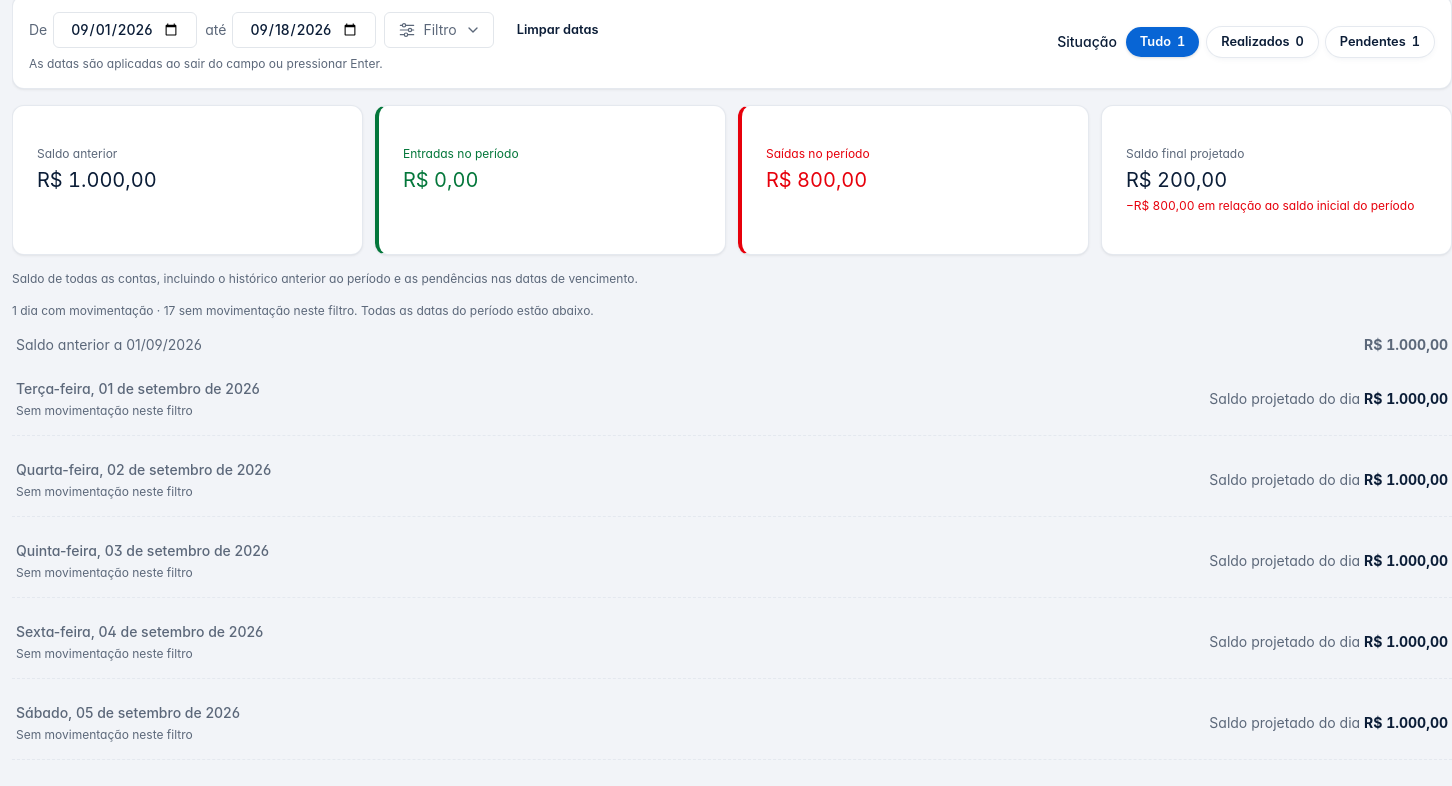
Test: abre do início do mês até hoje e exclui vencimentos futuros
The width and height of the screenshot is (1452, 786).
Expected: the date field labelled "De" holds "2026-09-01", [53, 12, 197, 48]
Expected: the date field labelled "até" holds "2026-09-18", [232, 12, 376, 48]
Click the button "Limpar datas": {"x": 558, "y": 30} [502, 12, 614, 48]
(page scrolled)
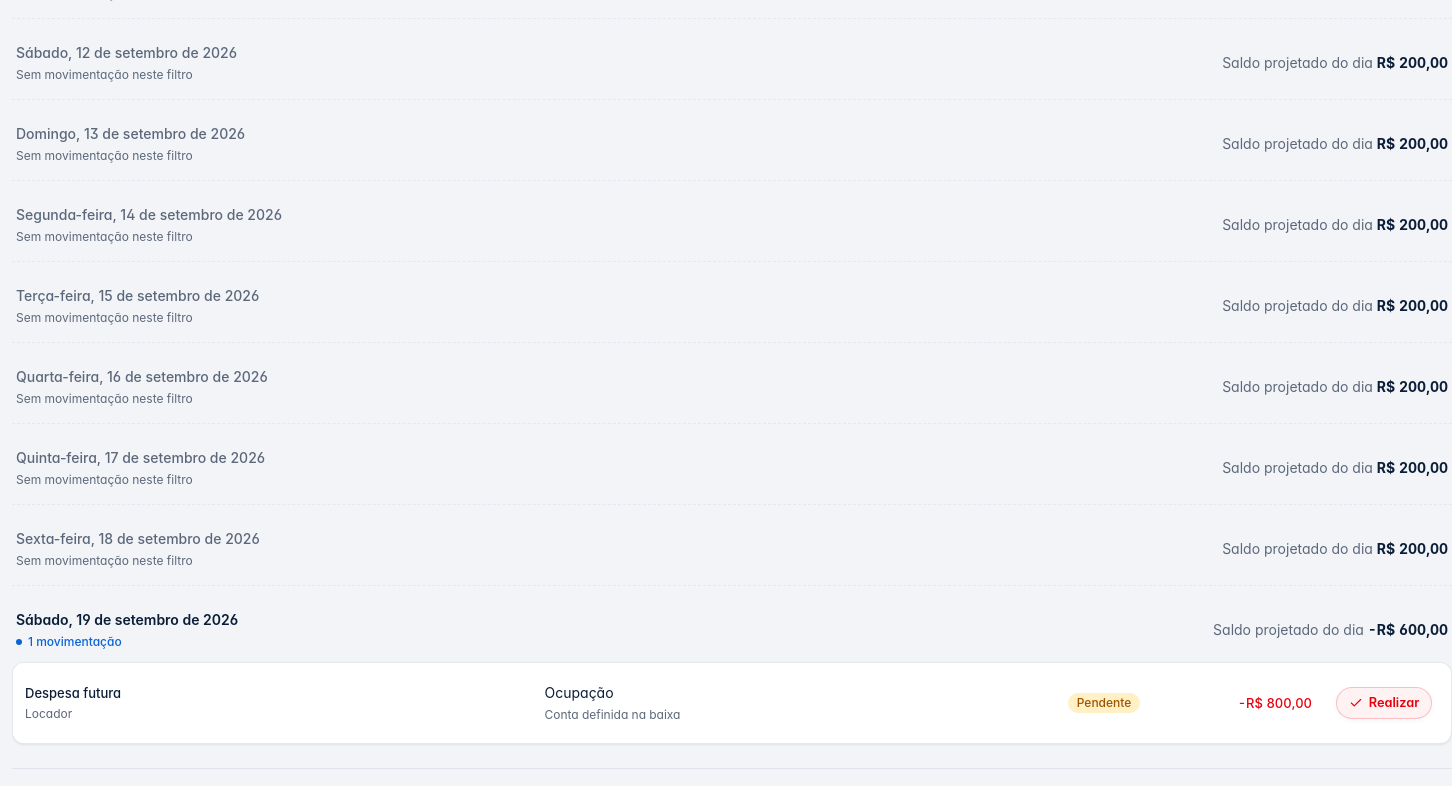
Now the text "Despesa futura" is shown, box [25, 685, 121, 701]
